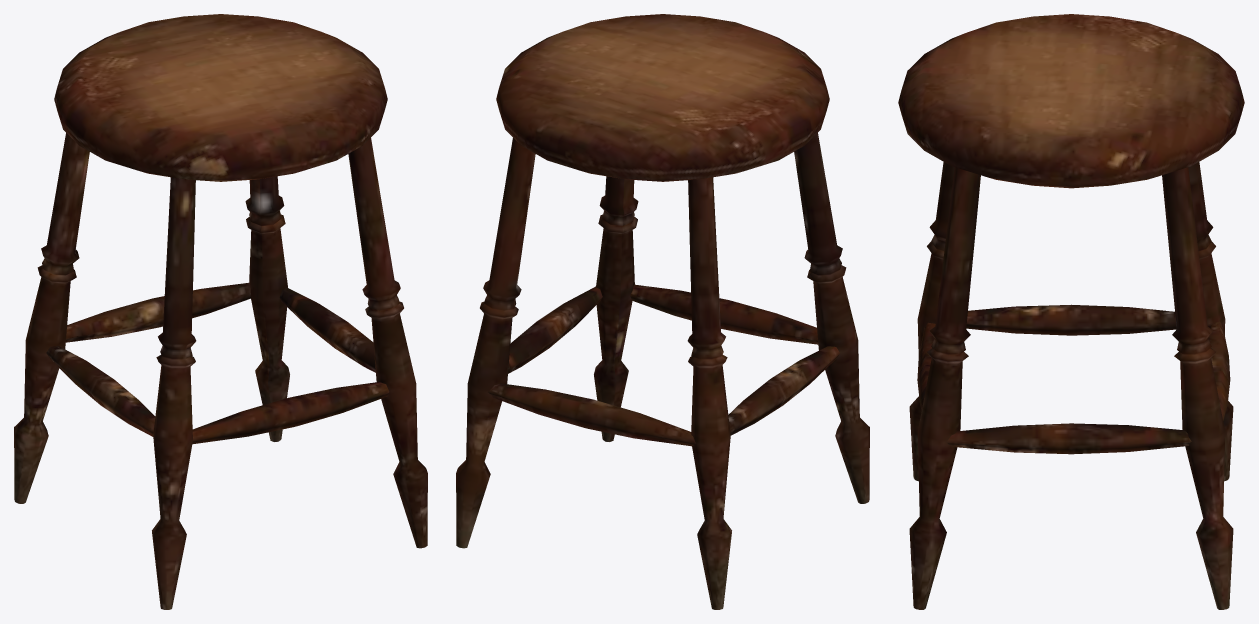
Rendered from SM_Chair_1_c76148.glb.
3 renders of one model, left to right at view 1: azimuth 30°, elevation 25°; view 2: azimuth 150°, elevation 25°; view 3: azimuth 270°, elevation 25°, orthographic. The views are drawn at different scales.
Bounding box in the file's own units: 0.3252 × 0.488 × 0.3252.
1 material, 1 textured.
